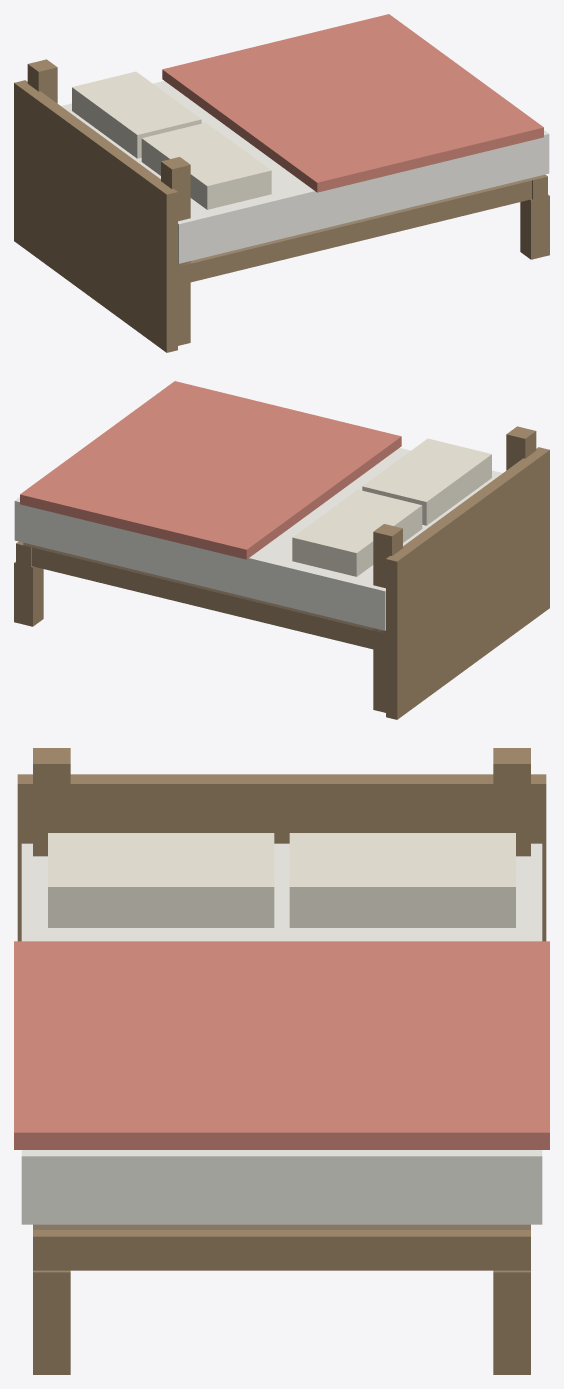
Rendered from 18-Casas_cama_doble.glb.
3 renders of one model, top to bottom at view 1: azimuth 30°, elevation 25°; view 2: azimuth 150°, elevation 25°; view 3: azimuth 270°, elevation 25°, orthographic. The views are drawn at different scales.
Visible parts, largest first — view 1: SM_CamaDoble_M_Mueble_Madera_Oscura, SM_CamaDoble_M_Mueble_Tela_Roja, SM_CamaDoble_M_Mueble_Lino, SM_CamaDoble_M_Mueble_Tela_Crema, SM_CamaDoble_M_Mueble_Madera_Clara; view 2: SM_CamaDoble_M_Mueble_Madera_Oscura, SM_CamaDoble_M_Mueble_Tela_Roja, SM_CamaDoble_M_Mueble_Lino, SM_CamaDoble_M_Mueble_Tela_Crema, SM_CamaDoble_M_Mueble_Madera_Clara; view 3: SM_CamaDoble_M_Mueble_Tela_Roja, SM_CamaDoble_M_Mueble_Madera_Oscura, SM_CamaDoble_M_Mueble_Lino, SM_CamaDoble_M_Mueble_Tela_Crema, SM_CamaDoble_M_Mueble_Madera_Clara.
Boxes of the visible parts, <box> form: SM_CamaDoble_M_Mueble_Madera_Oscura: <box>14,59,549,352</box>; SM_CamaDoble_M_Mueble_Tela_Roja: <box>162,14,543,192</box>; SM_CamaDoble_M_Mueble_Lino: <box>61,81,549,263</box>; SM_CamaDoble_M_Mueble_Tela_Crema: <box>72,71,271,209</box>; SM_CamaDoble_M_Mueble_Madera_Clara: <box>181,175,540,265</box>; SM_CamaDoble_M_Mueble_Madera_Oscura: <box>14,426,549,719</box>; SM_CamaDoble_M_Mueble_Tela_Roja: <box>20,381,401,559</box>; SM_CamaDoble_M_Mueble_Lino: <box>14,448,502,630</box>; SM_CamaDoble_M_Mueble_Tela_Crema: <box>292,438,491,576</box>; SM_CamaDoble_M_Mueble_Madera_Clara: <box>23,542,382,632</box>; SM_CamaDoble_M_Mueble_Tela_Roja: <box>14,941,549,1149</box>; SM_CamaDoble_M_Mueble_Madera_Oscura: <box>17,748,546,1374</box>; SM_CamaDoble_M_Mueble_Lino: <box>21,843,542,1224</box>; SM_CamaDoble_M_Mueble_Tela_Crema: <box>48,833,515,927</box>; SM_CamaDoble_M_Mueble_Madera_Clara: <box>33,1224,530,1229</box>.
Size of the model in its own units: 2.05 by 0.9 by 1.42.
